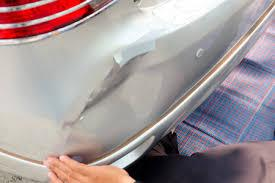rear-bumper-dent: (0, 0, 226, 182)
